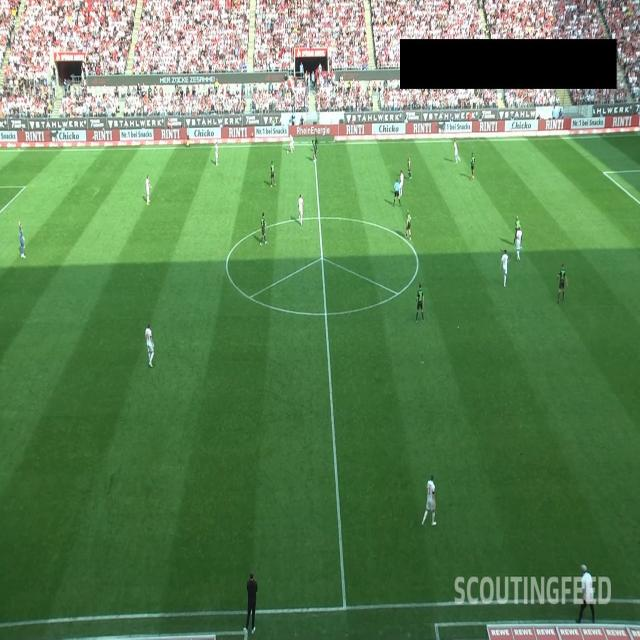ball: (287, 150, 289, 154)
